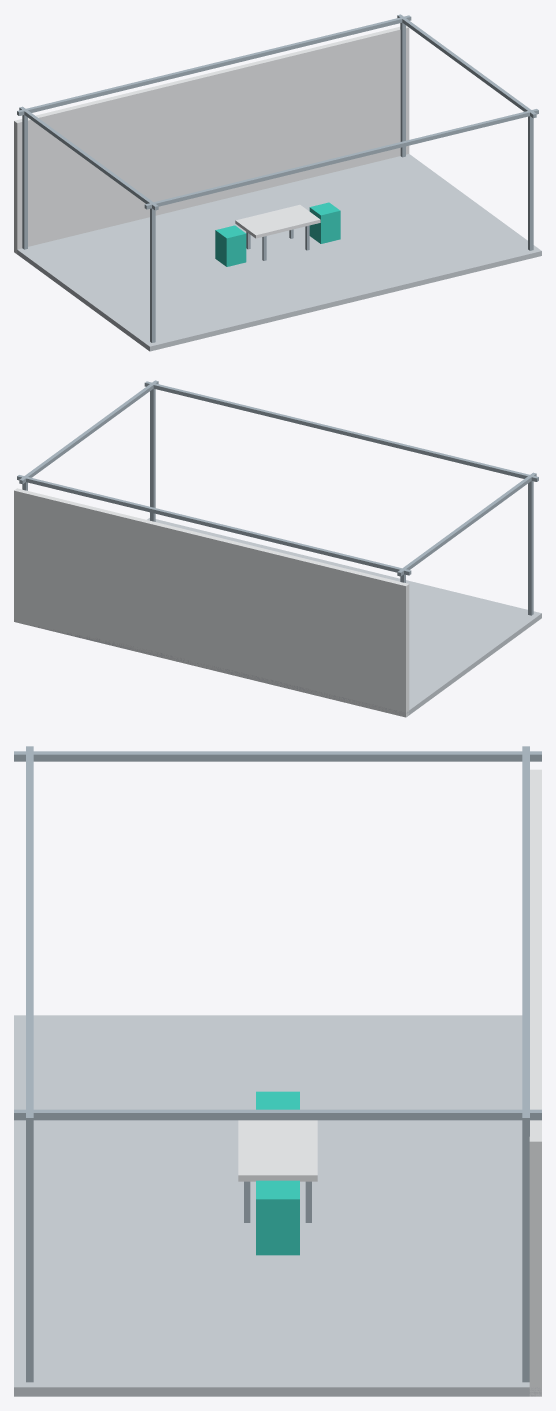
3 views of the same model, one above another, from view 1: azimuth 30°, elevation 25°; view 2: azimuth 150°, elevation 25°; view 3: azimuth 270°, elevation 25° (orthographic). The views are drawn at different scales.
Parts seen in each view (by area): view 1: Exhibition Booth Concept; view 2: Exhibition Booth Concept; view 3: Exhibition Booth Concept.
Boxes of the visible parts, box(x1,y1,x2,y2) form: Exhibition Booth Concept: box(14, 14, 541, 351); Exhibition Booth Concept: box(14, 380, 541, 717); Exhibition Booth Concept: box(14, 746, 541, 1396).
Bounding box in the file's own units: 10 × 3.49 × 6.
